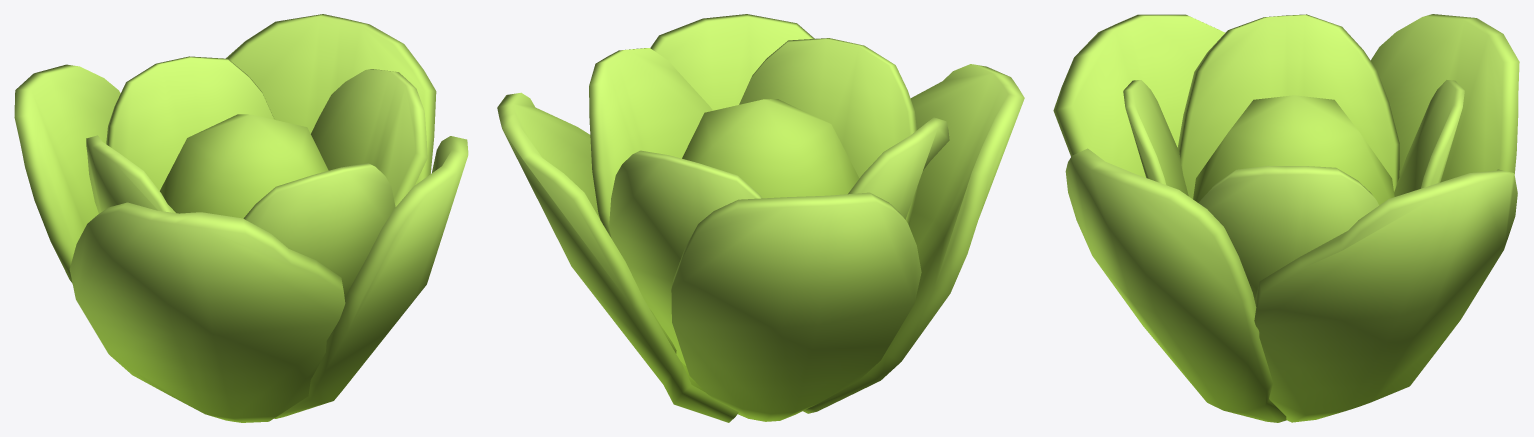
The model's file is WholeLettuce.fbx.
The picture shows the model from 3 angles, left to right: view 1: azimuth 30°, elevation 25°; view 2: azimuth 150°, elevation 25°; view 3: azimuth 270°, elevation 25°; orthographic projection. The views are drawn at different scales.
Visible parts, largest first — view 1: Lettuce; view 2: Lettuce; view 3: Lettuce.
Part boxes in pixels (x1,y1,x2,y2): Lettuce: (14, 14, 468, 422); Lettuce: (497, 14, 1024, 422); Lettuce: (1053, 14, 1519, 422).
Size of the model in its own units: 0.9008 by 0.644 by 0.8537.
